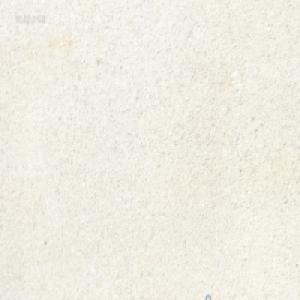Washer: (204, 292, 211, 300)
